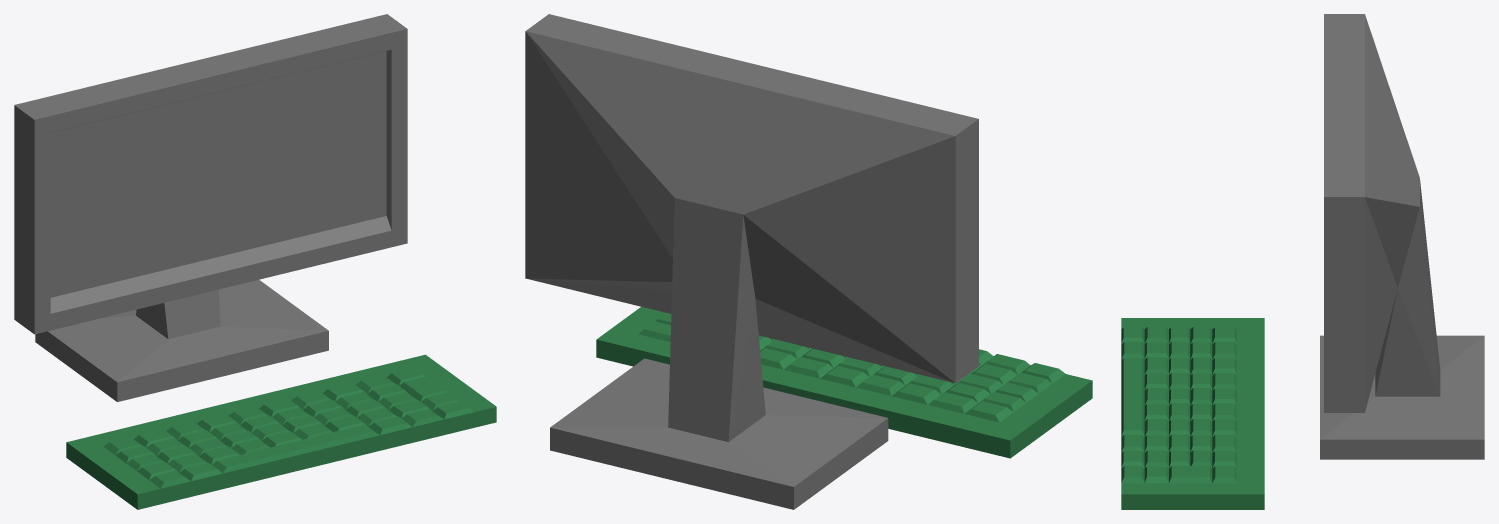
The model's file is ComputerOA.FBX.
The picture shows the model from 3 angles, left to right: view 1: azimuth 30°, elevation 25°; view 2: azimuth 150°, elevation 25°; view 3: azimuth 270°, elevation 25°; orthographic projection. The views are drawn at different scales.
Parts seen in each view (by area): view 1: Keyboard; view 2: Keyboard; view 3: Keyboard.
Boxes of the visible parts, x1,y1,x2,y2 form: Keyboard: (14, 14, 496, 509); Keyboard: (525, 14, 1092, 509); Keyboard: (1121, 14, 1484, 509).
Bounding box in the file's own units: 17.32 × 14.05 × 14.52.
